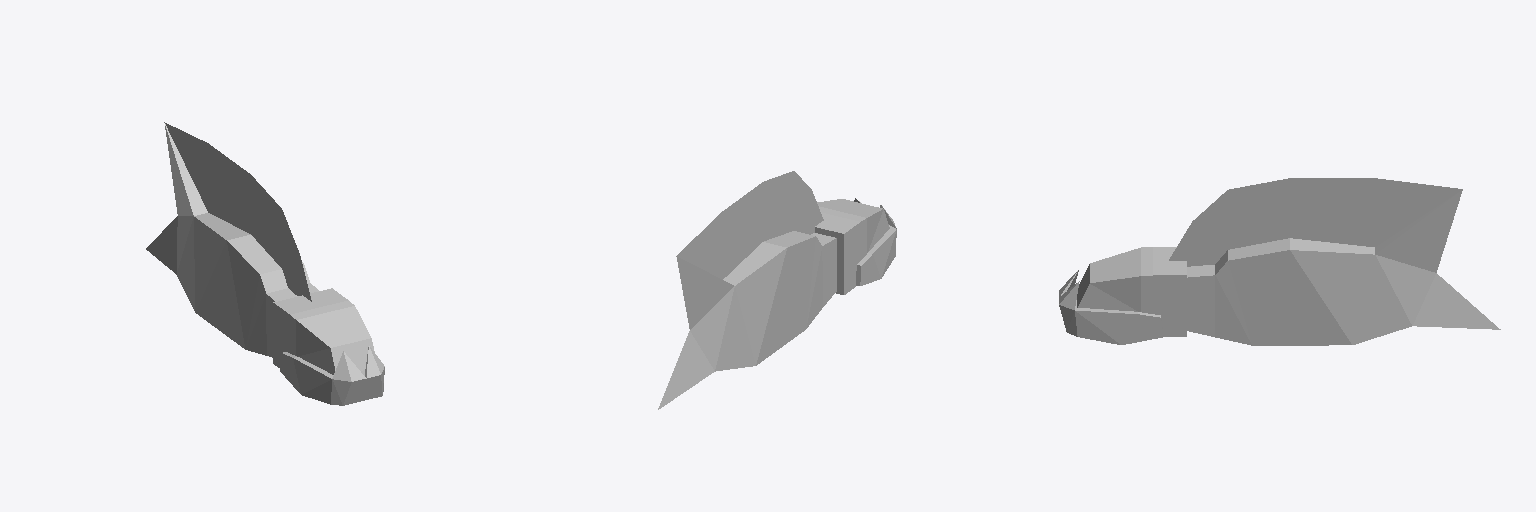
File: abtu.obj
3 renders of one model, left to right at view 1: azimuth 30°, elevation 25°; view 2: azimuth 150°, elevation 25°; view 3: azimuth 270°, elevation 25°, orthographic.
Visible parts, largest first — view 1: Body, Head, Mouth; view 2: Body, Head, Mouth; view 3: Body, Head, Mouth.
Part boxes in pixels (x1,y1,x2,y2): Body: (146, 122, 318, 357); Head: (273, 288, 374, 374); Mouth: (280, 346, 384, 405); Body: (658, 171, 836, 409); Head: (815, 199, 889, 294); Mouth: (854, 198, 896, 285); Body: (1169, 178, 1500, 345); Head: (1077, 247, 1186, 336); Mouth: (1059, 270, 1163, 344).
Bounding box in the file's own units: 0.616 × 1.35 × 3.47.